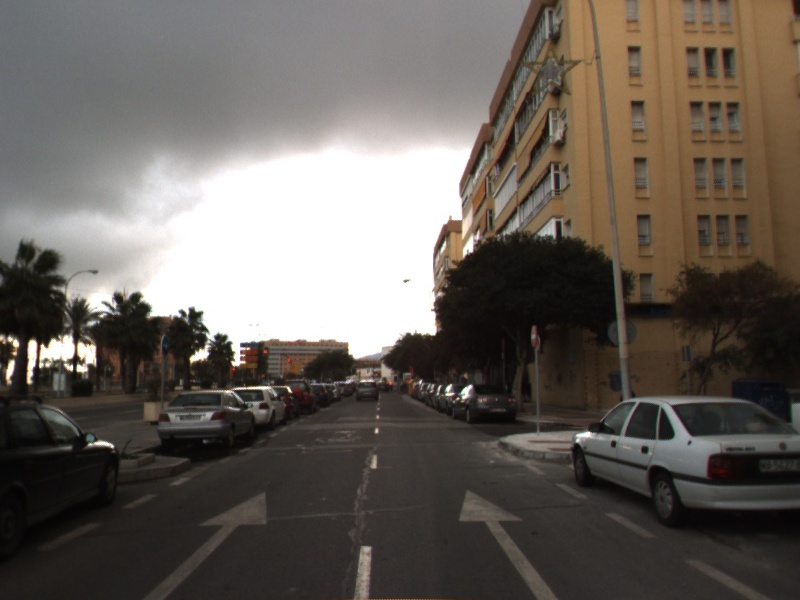STRAIGHT: (137, 489, 269, 600), (457, 487, 560, 600)
